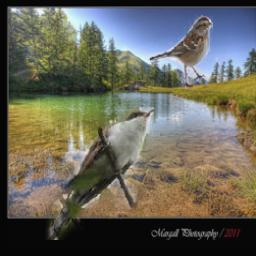Cuckoo: (46, 107, 155, 240)
Sparrow: (148, 14, 213, 90)
